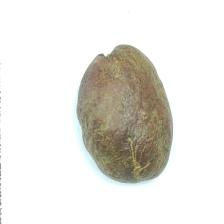NG: (112, 121, 162, 187)
